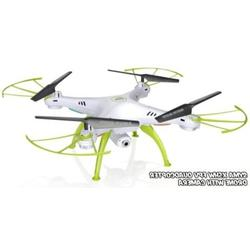drone: (1, 63, 248, 181)
